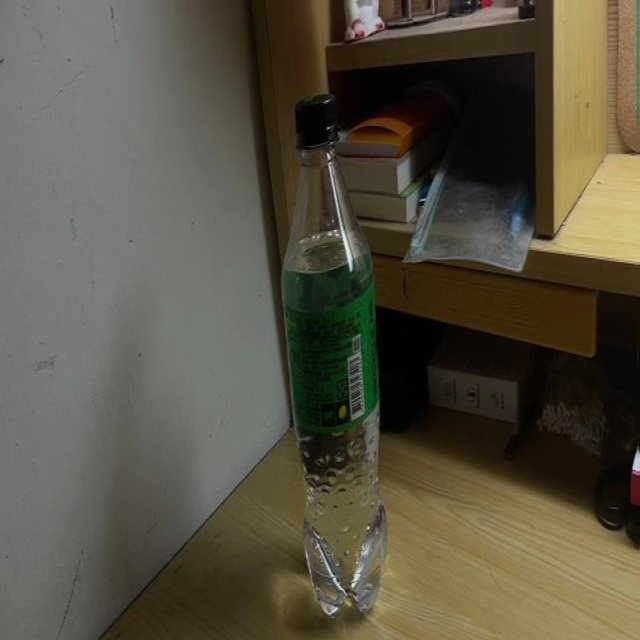Sprite: (282, 92, 390, 616)
